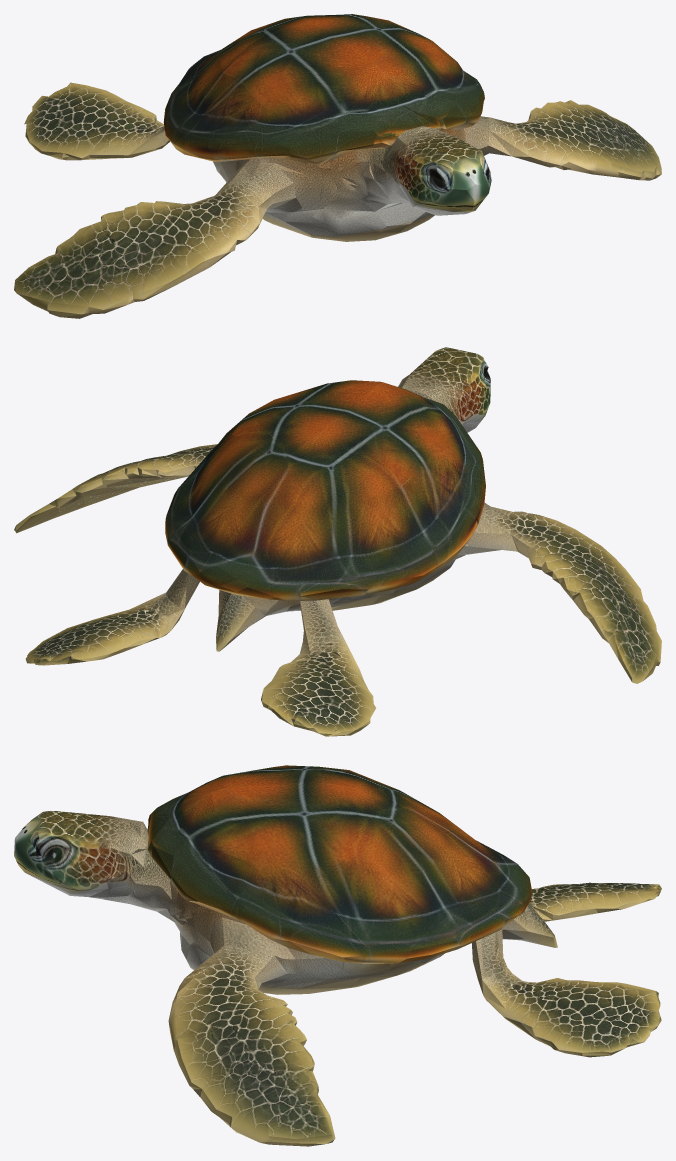
Rendered from sea_turtle.glb.
The picture shows the model from 3 angles, top to bottom: view 1: azimuth 30°, elevation 25°; view 2: azimuth 150°, elevation 25°; view 3: azimuth 270°, elevation 25°; orthographic projection. The views are drawn at different scales.
Size of the model in its own units: 1.9 by 0.5663 by 1.63.
1 material, 1 textured.
